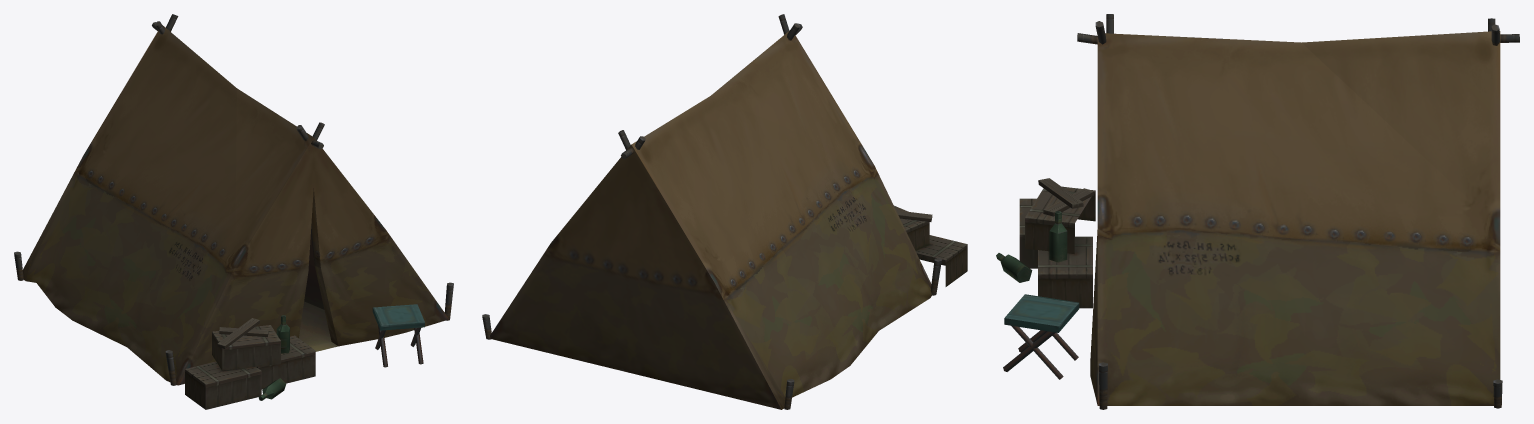
File: mi_ruin002.FBX
The picture shows the model from 3 angles, left to right: view 1: azimuth 30°, elevation 25°; view 2: azimuth 150°, elevation 25°; view 3: azimuth 270°, elevation 25°; orthographic projection. The views are drawn at different scales.
Parts seen in each view (by area): view 1: mi_ruin002; view 2: mi_ruin002; view 3: mi_ruin002.
Boxes of the visible parts, x1=… form: mi_ruin002: x1=14, y1=14, x2=453, y2=409; mi_ruin002: x1=482, y1=14, x2=967, y2=409; mi_ruin002: x1=996, y1=14, x2=1519, y2=409.
Size of the model in its own units: 2.91 by 2.21 by 3.4.
1 material, 1 textured.
